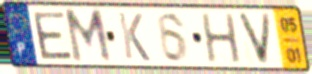6: (156, 11, 191, 64)
E: (30, 10, 75, 61)
H: (199, 12, 244, 65)
K: (116, 11, 153, 64)
M: (62, 7, 114, 65)
V: (235, 11, 274, 67)
